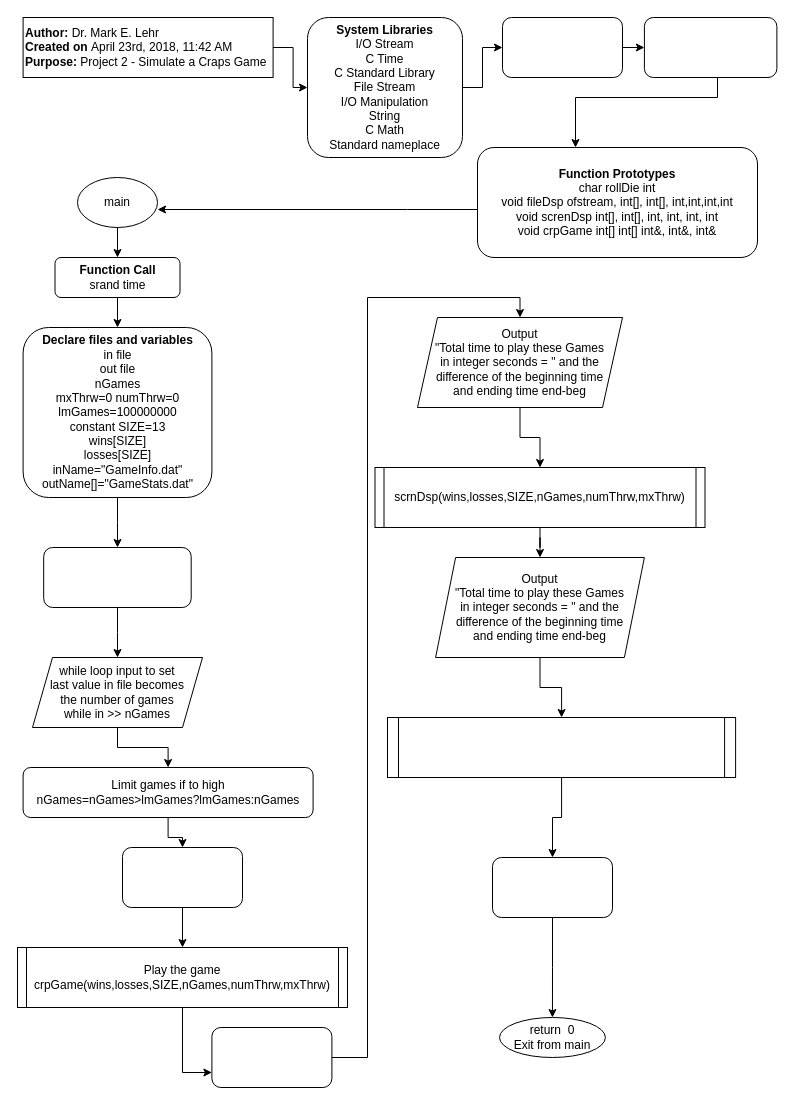
The diagram is 795 pixels wide and 1105 high, and some of its shapes have lost their labels. Here are the shapes that lost their labels. From the top down, the centre of each, then its label:
point (562, 47): User Libraries none
point (710, 47): Global Constants PERCENT = 100.0f
point (117, 577): Open the Input/Output file for "in" open inName for "out" open outName
point (561, 747): fileDsp (out,wins,losses,SIZE,nGames,numThrw,mxThrw)
point (182, 877): Set beginning time beg = time(0)
point (552, 887): Close files in.close() out.close()
point (271, 1057): Set end time end = time(0)
